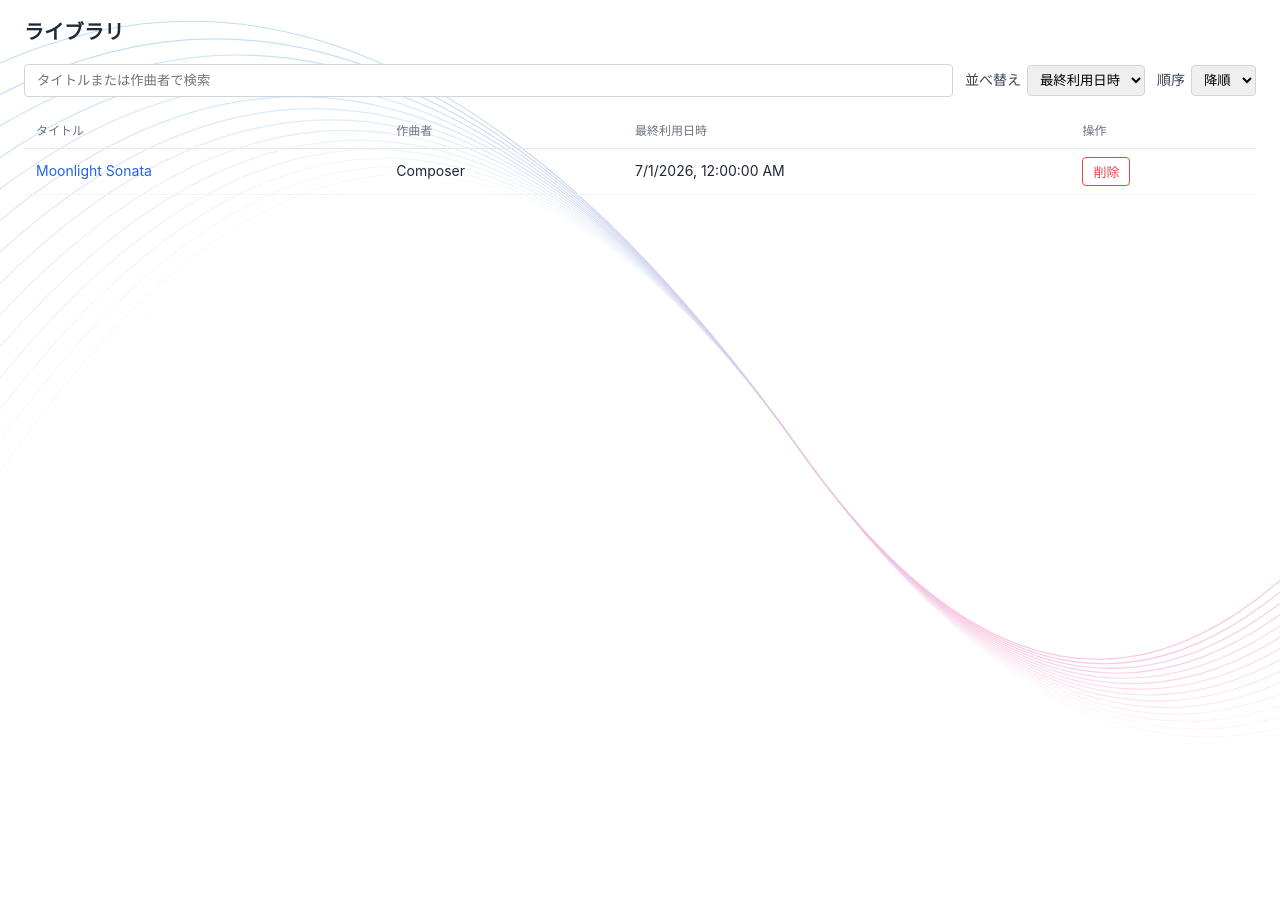
LibraryView › delete confirmation dialog accessibility (CodeRabbit #46指摘6) › closes the dialog on Escape key press
Expected: the button "Moonlight Sonata" is shown, x1=36 y1=160 x2=152 y2=183
Click the button with aria-label "Moonlight Sonata をライブラリから削除" at (1106, 172), box x1=1082 y1=157 x2=1130 y2=186
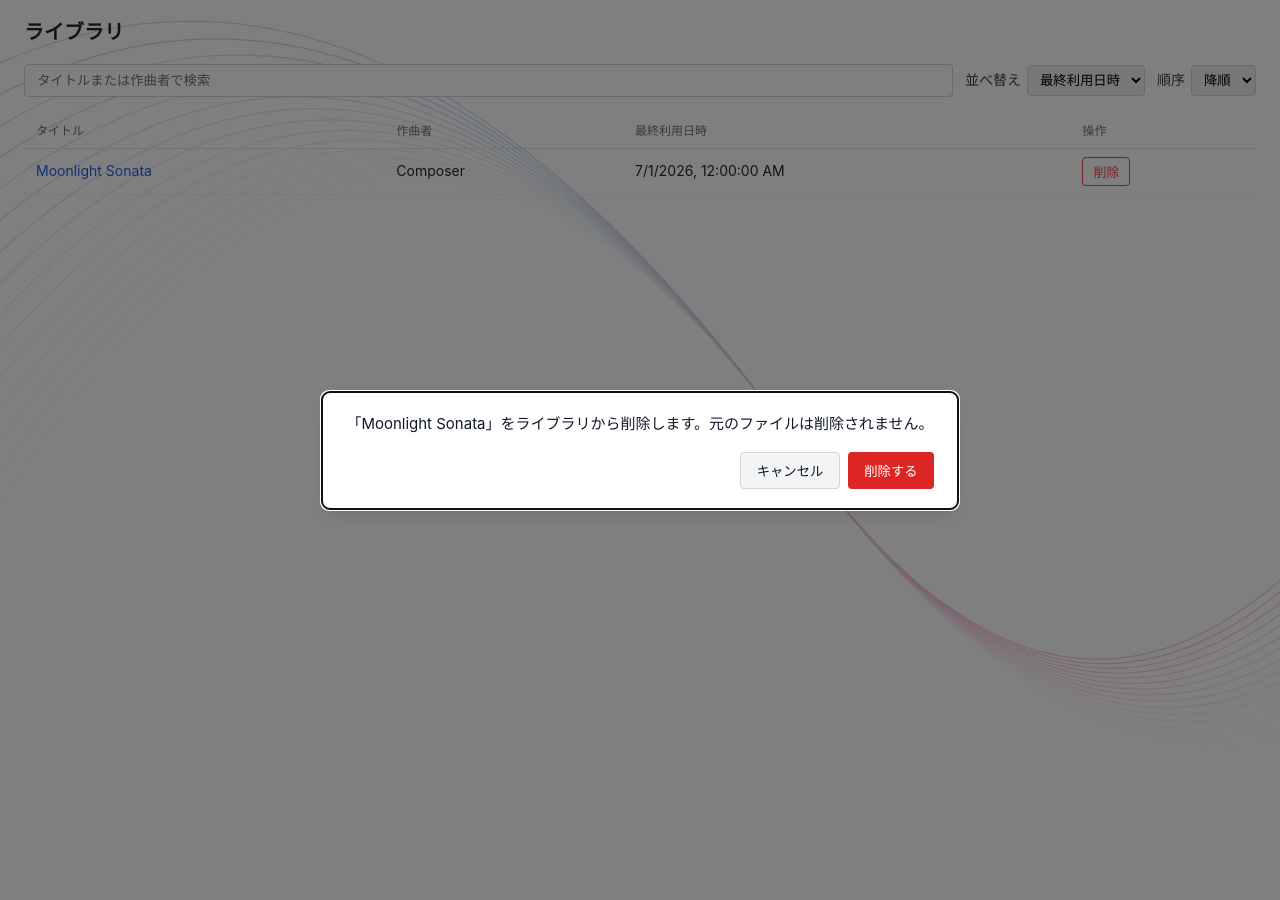
Expected: the dialog is shown, x1=322 y1=392 x2=958 y2=508
Press Escape
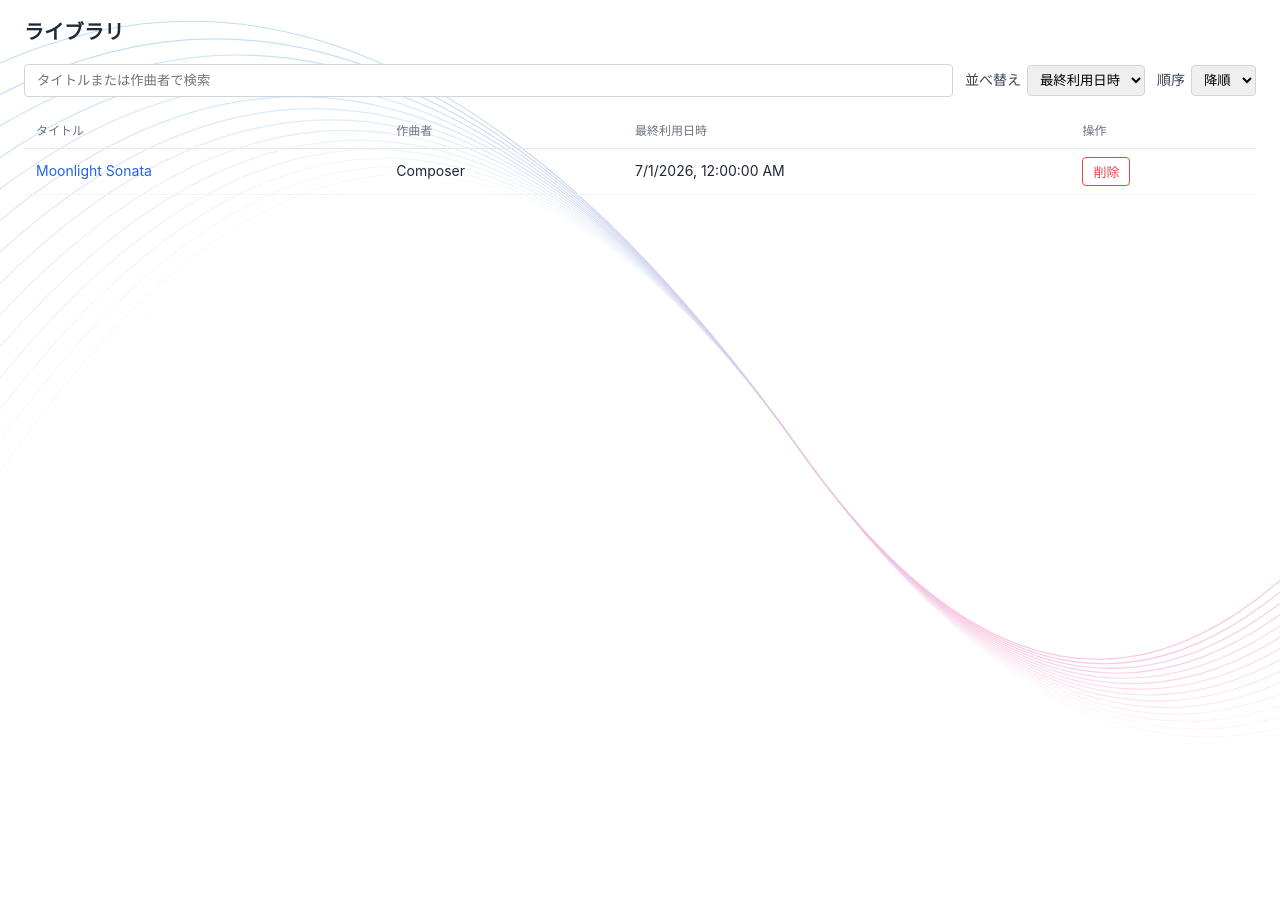
Expected: the dialog is gone
